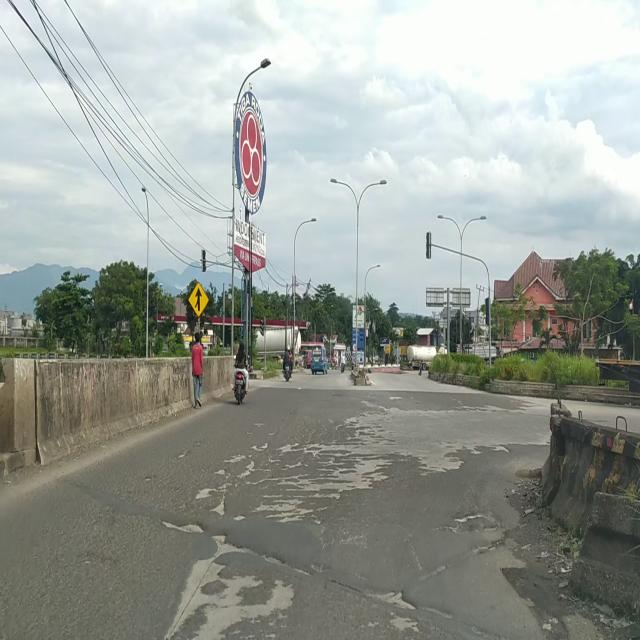Drain Hole: (202, 432, 390, 522)
Sewer Cover: (155, 519, 410, 605)
